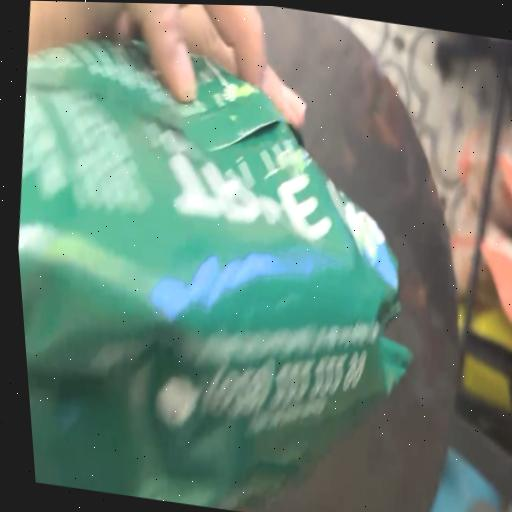cafe_xay: (18, 41, 411, 510)
